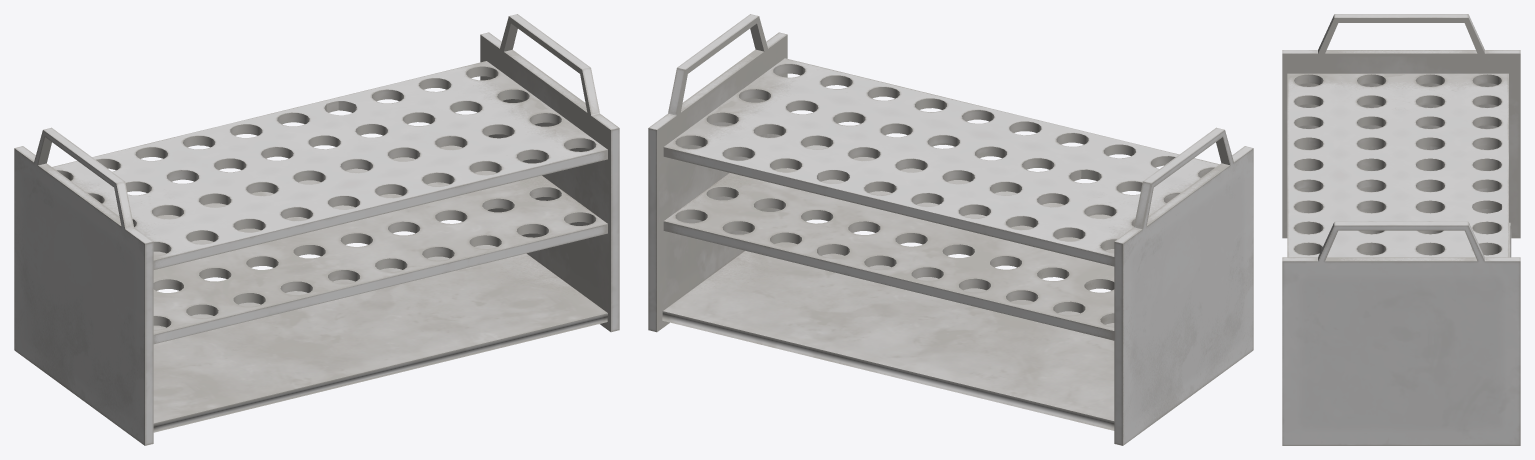
The model's file is 试管架.glb.
3 views of the same model, side by side, from view 1: azimuth 30°, elevation 25°; view 2: azimuth 150°, elevation 25°; view 3: azimuth 270°, elevation 25° (orthographic). The views are drawn at different scales.
Parts seen in each view (by area): view 1: 试管架; view 2: 试管架; view 3: 试管架.
Part boxes in pixels (box(x1,y1,x2,y2)): 试管架: box(14, 14, 619, 445); 试管架: box(648, 14, 1253, 445); 试管架: box(1282, 14, 1520, 445).
Bounding box in the file's own units: 0.543 × 0.264 × 0.2589.
1 material, 1 textured.
